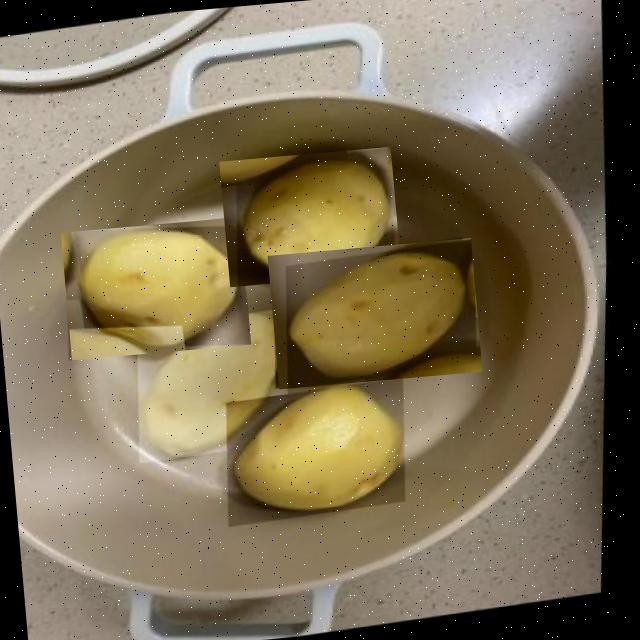Potato: (266, 238, 481, 389), (223, 378, 427, 526), (131, 307, 308, 463), (59, 217, 250, 360), (218, 146, 400, 287)
